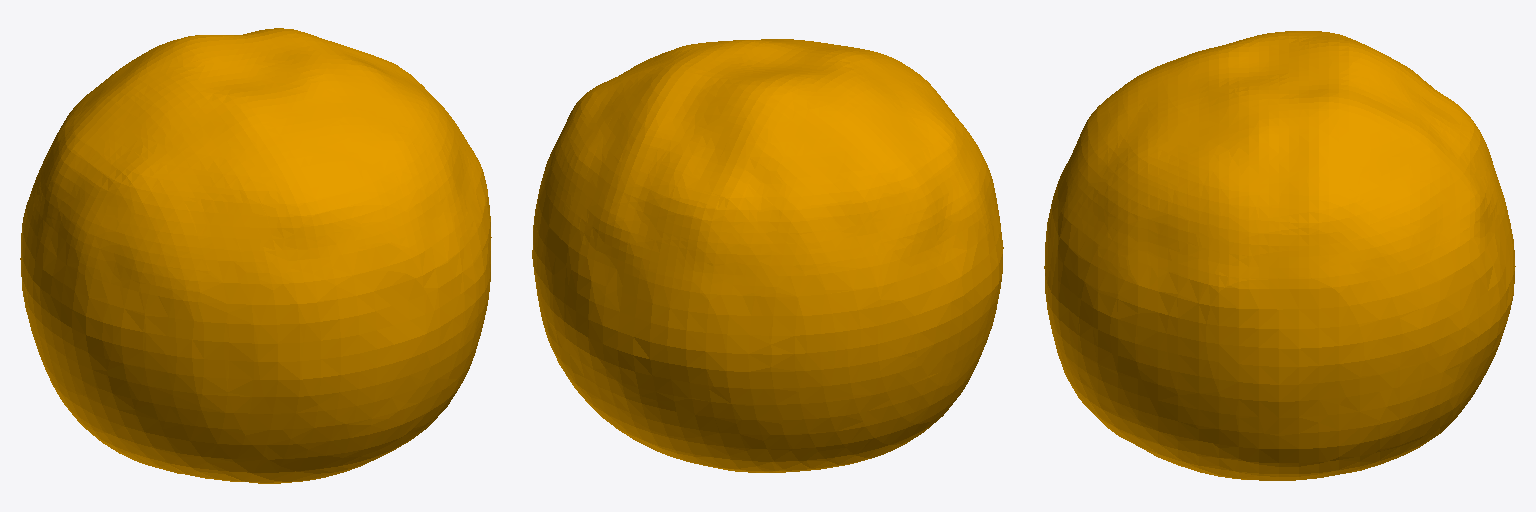
URDF robot description (017_orange):
<?xml version="1.0"?>
<robot name="017_orange">
  <link name="base_link">
    <inertial>
      <origin xyz="-0.005710 0.007077 0.038071" rpy="0 0 0" />
      <mass value="0.220696" />
      <inertia ixx="0.00011983" ixy="-0.00000041" ixz="0.00000048"
               iyy="0.00012250" iyz="-0.00000086" izz="0.00013275" />
    </inertial>
    <visual>
      <geometry><mesh filename="017_orange.stl" scale="1.0 1.0 1.0" /></geometry>
    </visual>
    <collision>
      <geometry><mesh filename="017_orange_col.obj" scale="1.0 1.0 1.0" /></geometry>
    </collision>
    <contact>
      <lateral_friction value="1.0"/>
    </contact>
  </link>
</robot>

--- What the picture shows (computed from the rendered views, not written in the file) ---
The picture shows the robot from 3 angles, left to right: view 1: azimuth 30°, elevation 25°; view 2: azimuth 150°, elevation 25°; view 3: azimuth 270°, elevation 25°; orthographic projection.
Model 017_orange with 1 links and 0 joints (none), rooted at base_link, posed all joints at 0.
Links seen in each view (by area): view 1: base_link; view 2: base_link; view 3: base_link.
Link boxes in pixels (<box>): base_link: <box>20,28,491,483</box>; base_link: <box>532,39,1003,472</box>; base_link: <box>1044,31,1515,480</box>.
Bounding box of the posed robot: 0.0772 × 0.0763 × 0.0669 m (x, y, z).
1 mesh visuals loaded from 1 distinct referenced files (1 binary STL).
